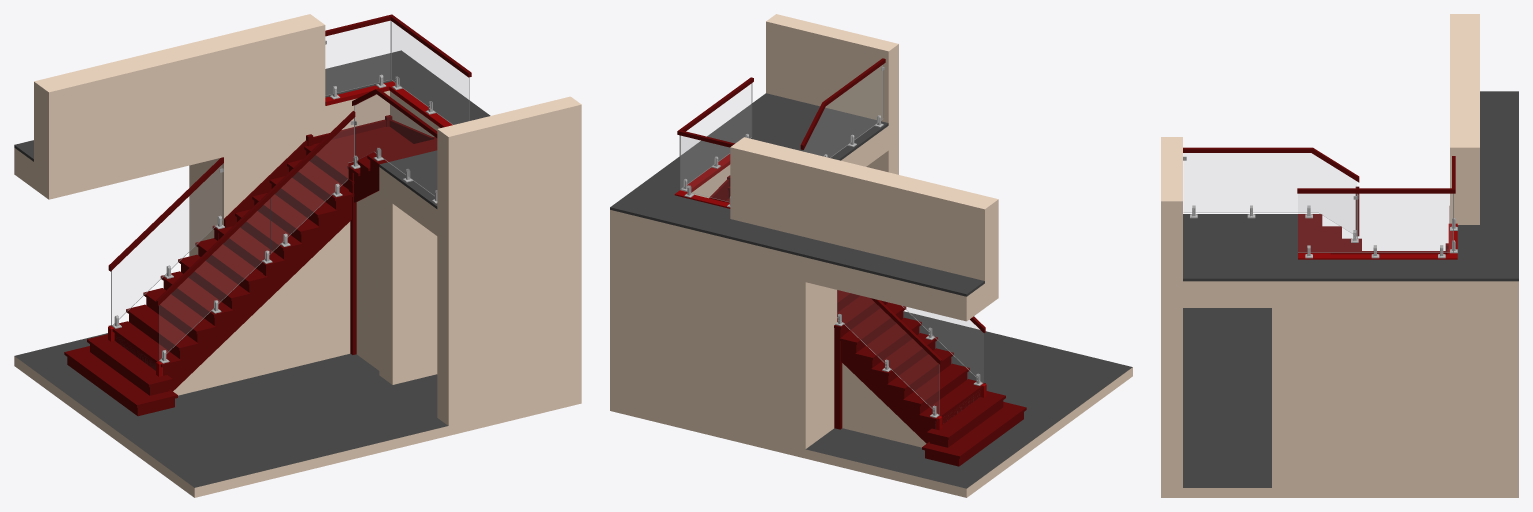
File: 3D Сборка 1.obj
The picture shows the model from 3 angles, left to right: view 1: azimuth 30°, elevation 25°; view 2: azimuth 150°, elevation 25°; view 3: azimuth 270°, elevation 25°; orthographic projection. The views are drawn at different scales.
Size of the model in its own units: 6.04 by 4.45 by 4.87.
